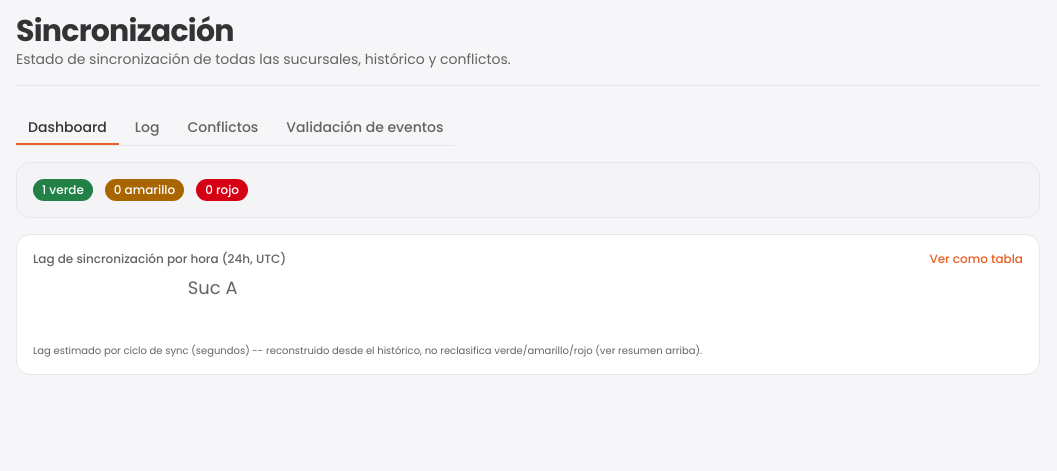
Test: SyncDashboard › T3: viewing a conflict shows datos_local vs datos_cloud side by side
Click the tab with test id "sync-tab-conflictos" at (223, 128), box [175,111,270,145]
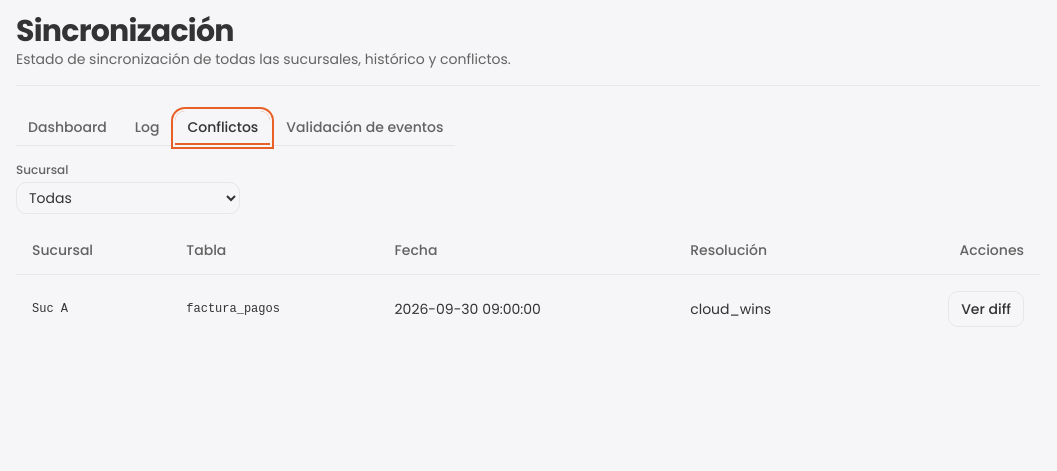
Click the button with test id "sync-conflict-ver-diff-cccccccc-0000-0000-0000-000000000001" at (986, 308), box [948,290,1024,326]
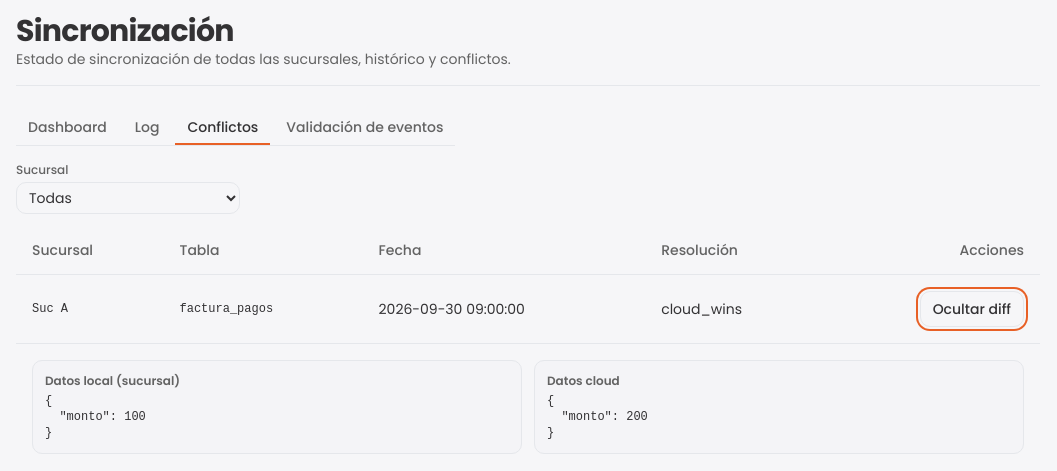
Now the text "{ \"monto\": 100 }" is shown, box [45,394,146,440]
Now the text "{ \"monto\": 200 }" is shown, box [547,394,648,440]
